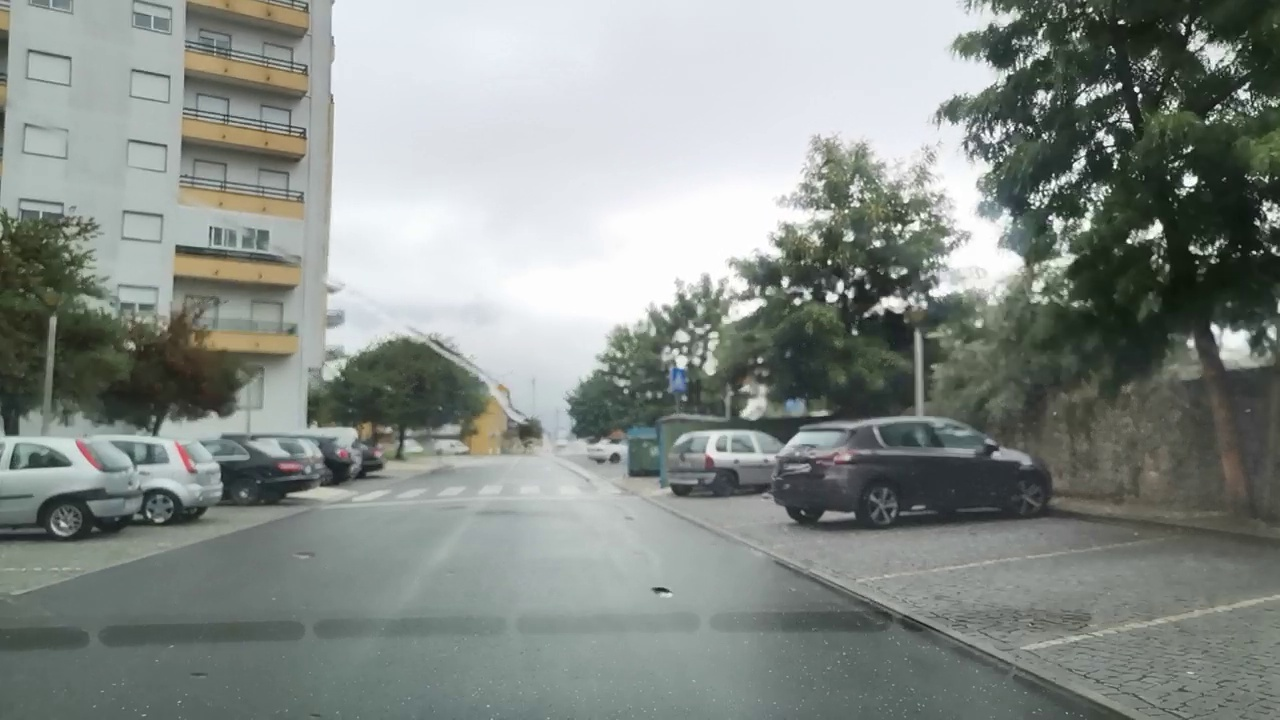Stairs: (351, 483, 605, 503)
